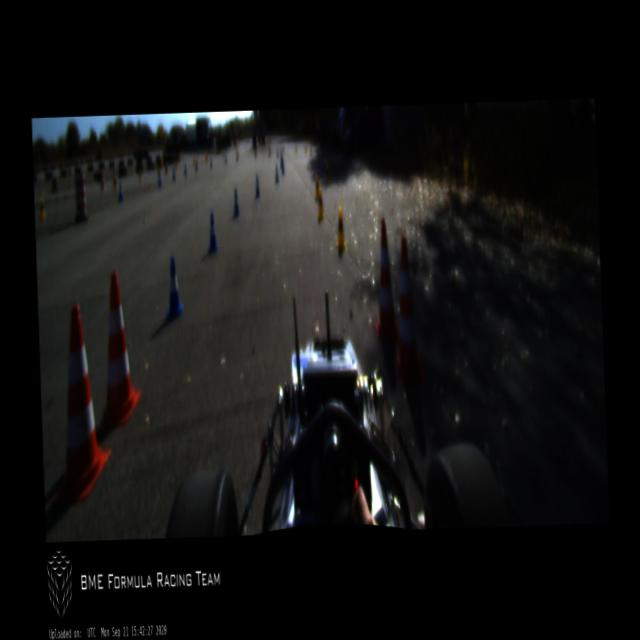blue_cone: (164, 254, 182, 320), (206, 211, 218, 252), (232, 188, 239, 217), (254, 175, 260, 198), (117, 182, 123, 200), (274, 165, 279, 182)
large_orange_cone: (44, 302, 112, 503), (92, 271, 142, 429), (386, 237, 426, 383), (369, 218, 398, 338)
yellow_cone: (336, 205, 346, 249), (316, 188, 324, 218), (38, 196, 46, 220), (314, 174, 319, 202), (326, 164, 330, 184)
